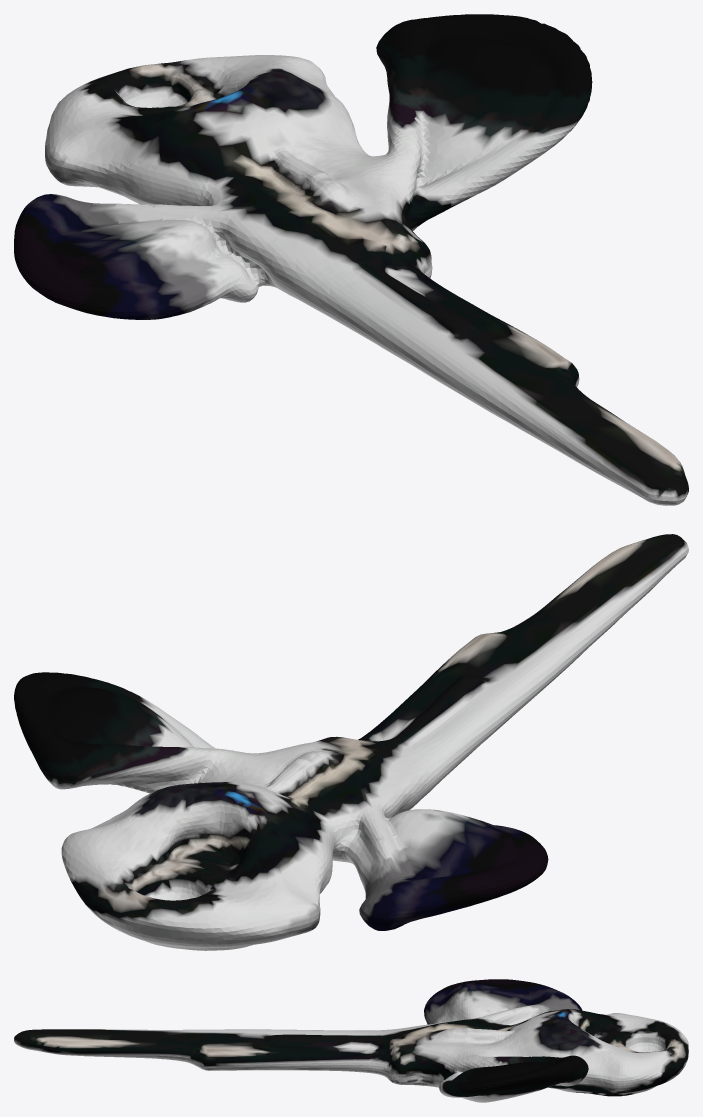
File: magi_staff.glb
3 renders of one model, top to bottom at view 1: azimuth 30°, elevation 25°; view 2: azimuth 150°, elevation 25°; view 3: azimuth 270°, elevation 25°, orthographic. The views are drawn at different scales.
Visible parts, largest first — view 1: geometry_0; view 2: geometry_0; view 3: geometry_0.
Part boxes in pixels (x1,y1,x2,y2): geometry_0: (14,14,688,505); geometry_0: (14,534,688,950); geometry_0: (14,979,688,1102).
Bounding box in the file's own units: 0.625 × 0.162 × 1.13.
